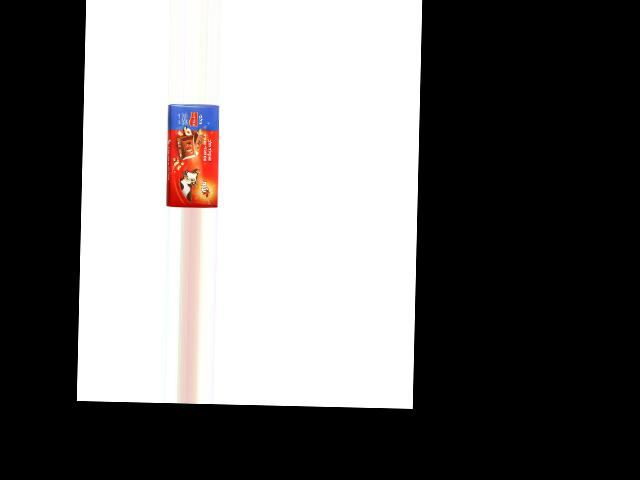chocolate: (161, 105, 218, 207)
